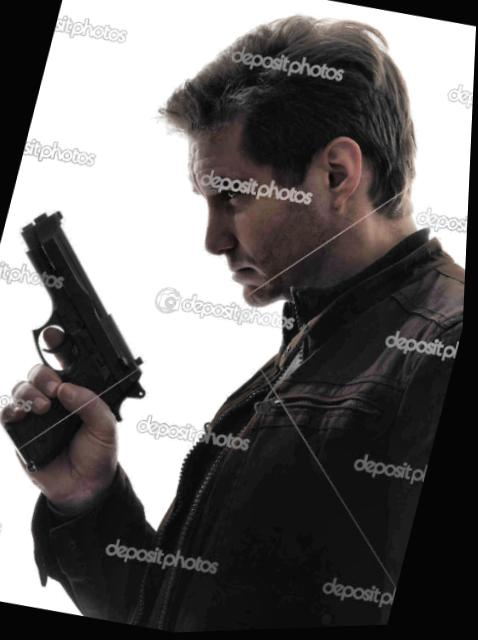pistol: (0, 199, 192, 495)
